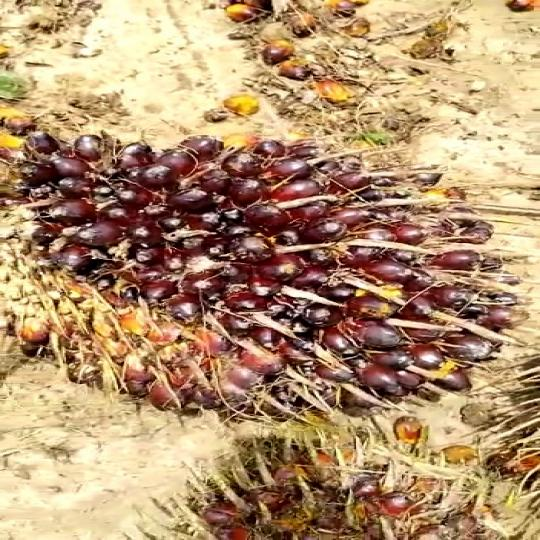mentah: (10, 114, 506, 422)
